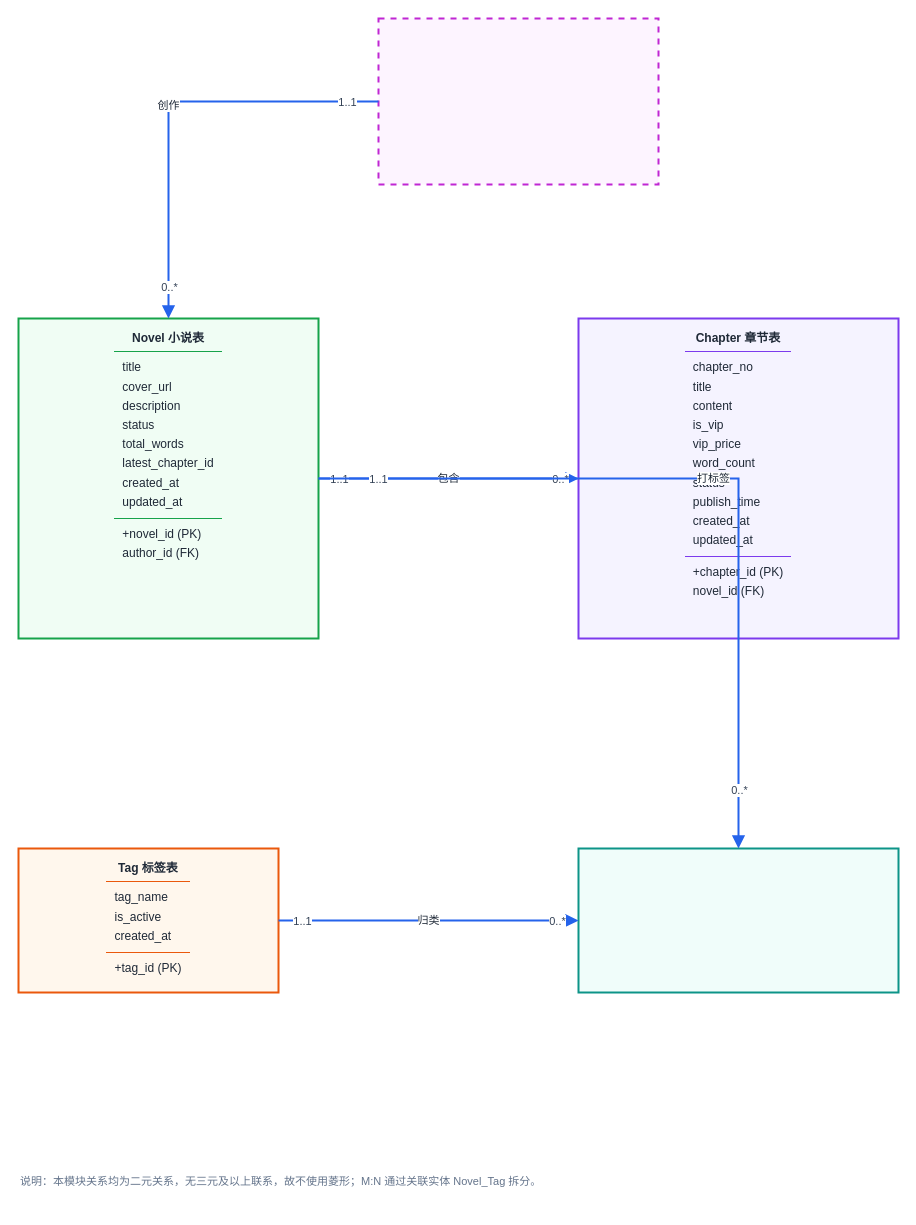
Image size: 916x1225. Some labels were removed from this diagram. The centre of each missing label's shape, as x and y in pixels:
"app_user 用户表 username nickname role status +user_id (PK)" goes at point 518,101.
"Novel_Tag 关联表 sort_order created_at +novel_id (PK, FK) +tag_id (PK, FK)" goes at point 738,920.
